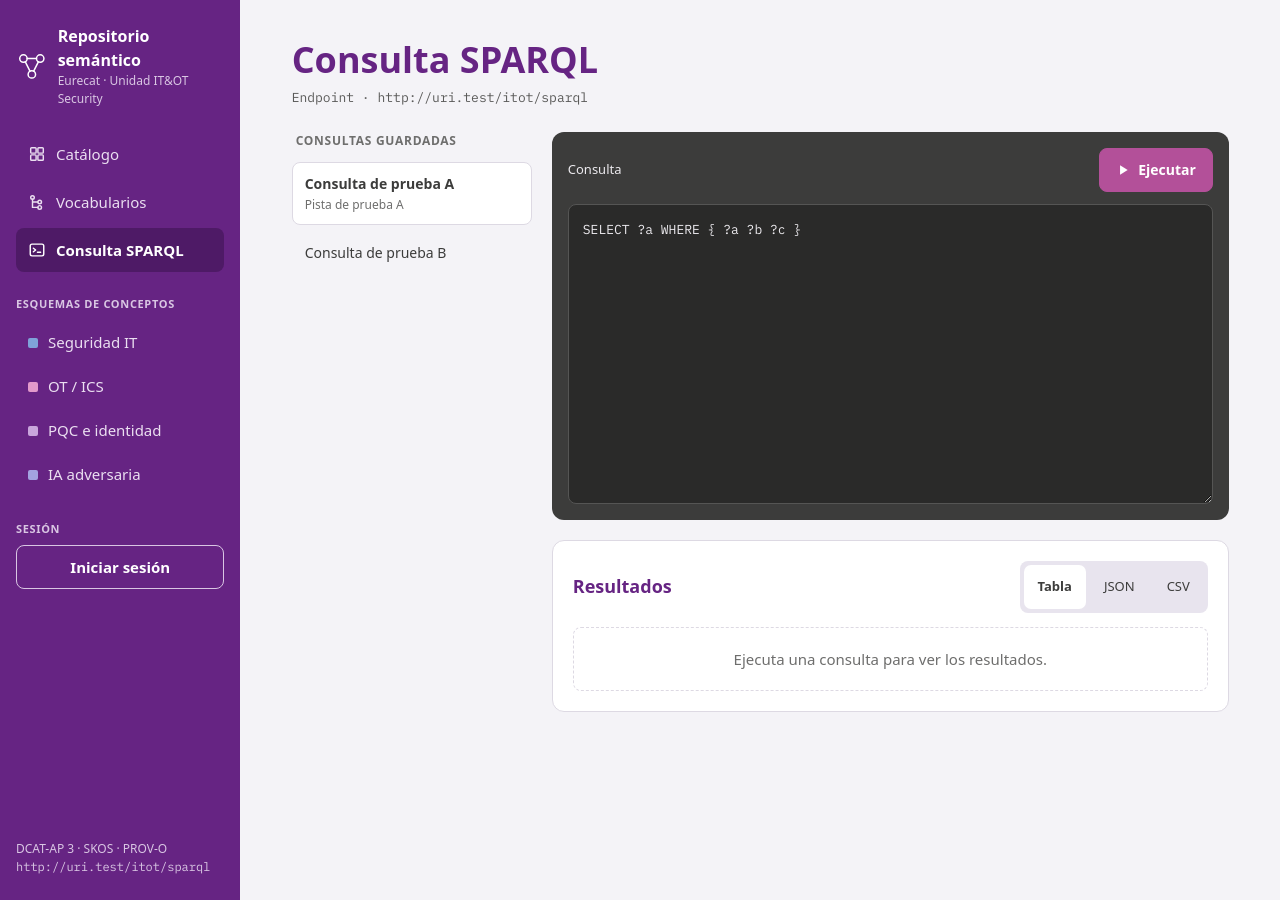
Test case: Consola SPARQL › muestra «1 resultado» en singular
This screenshot has width=1280, height=900.
Expected: the button "Consulta de prueba A Pista de prueba A" is shown, x1=292 y1=162 x2=532 y2=225
What coordinates should you click on to do the following:
click the button "Ejecutar"
I would click on:
 (1156, 170)
Its box is x1=1099 y1=148 x2=1213 y2=192.
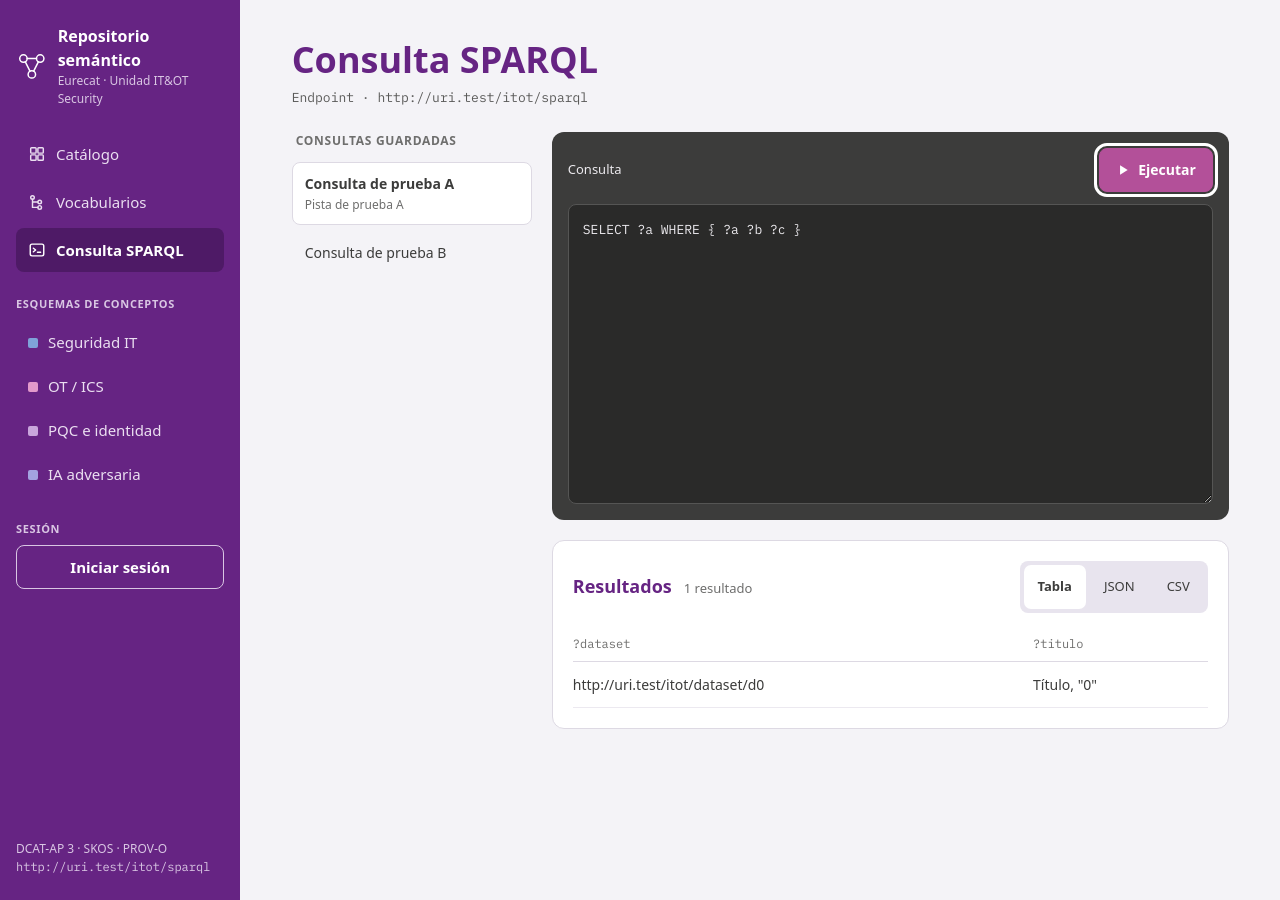
Now the text "1 resultado" is shown, box x1=684 y1=579 x2=752 y2=599
